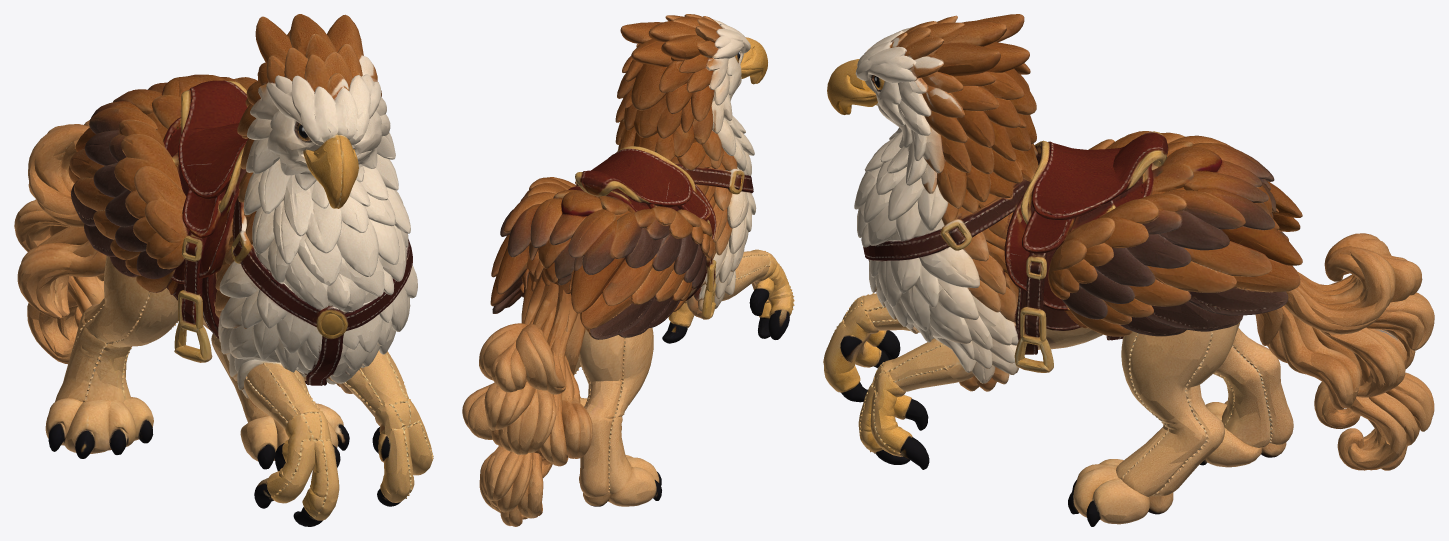
Rendered from griffin.glb.
3 views of the same model, side by side, from view 1: azimuth 30°, elevation 25°; view 2: azimuth 150°, elevation 25°; view 3: azimuth 270°, elevation 25° (orthographic). The views are drawn at different scales.
Bounding box in the file's own units: 0.7722 × 1.59 × 1.9.
Materials: 1 (1 with a texture image).
